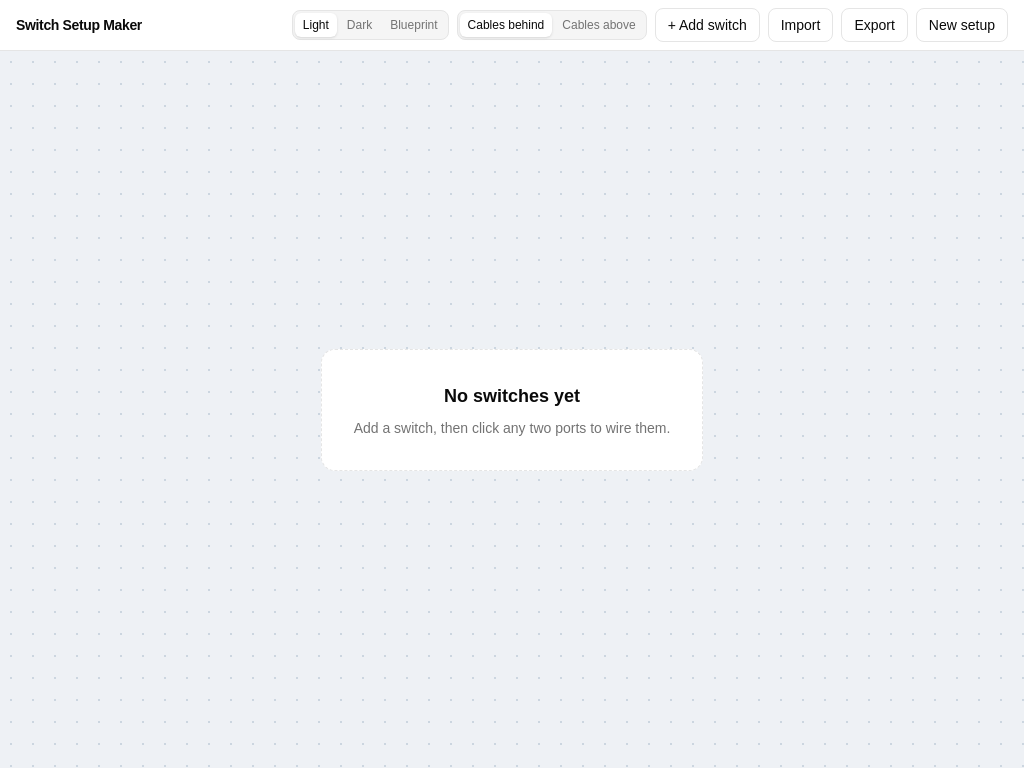
Scenario: add switch › only the Unifi 48 Port entry prefills the model name
The image size is (1024, 768).
Click the button "+ Add switch". click: [707, 25]
box: [655,8,760,42]
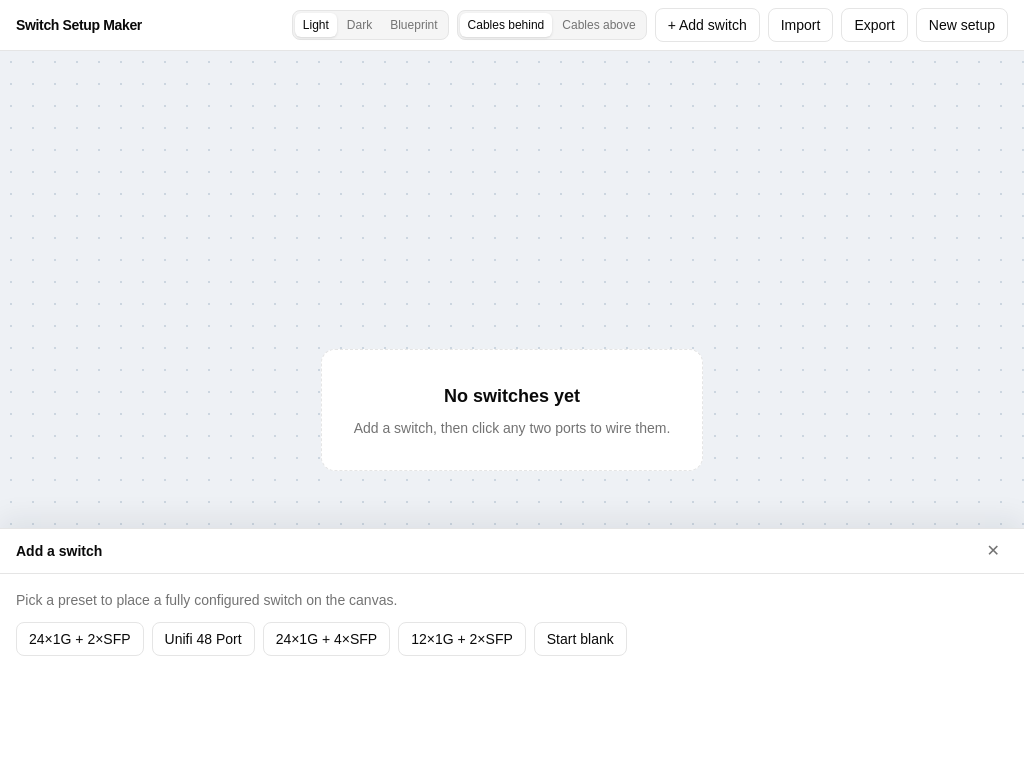
Click the button "24×1G + 2×SFP". click: [80, 639]
box: [16,622,144,656]
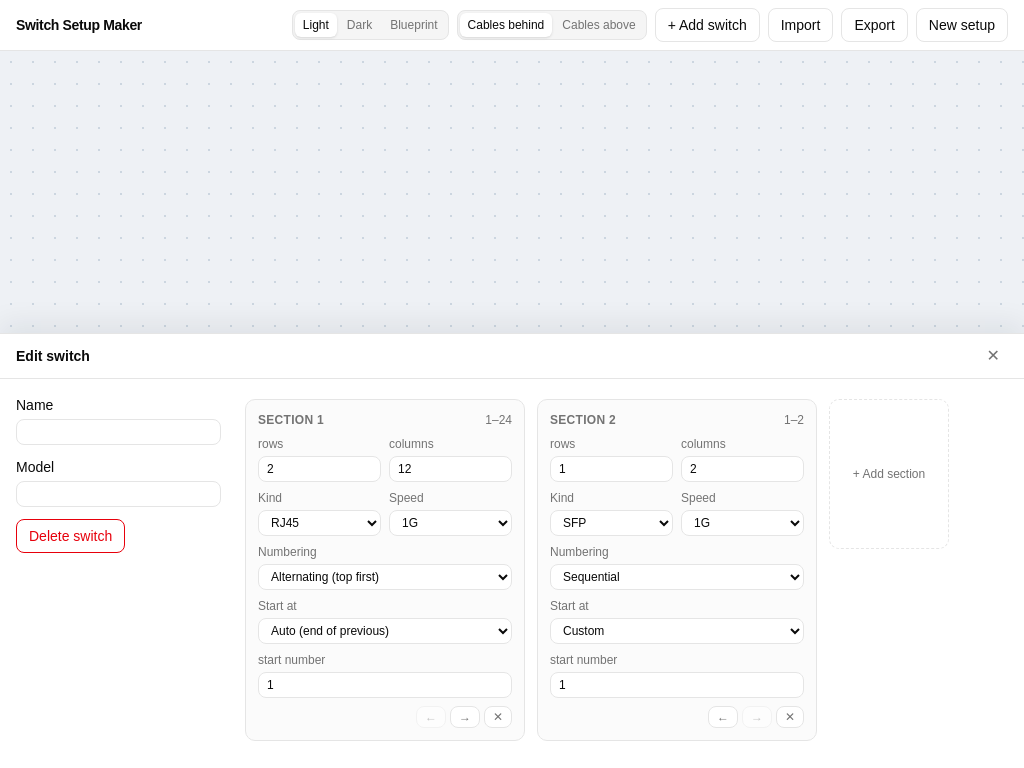
Click the button "+ Add switch". click: [707, 25]
box: [655,8,760,42]
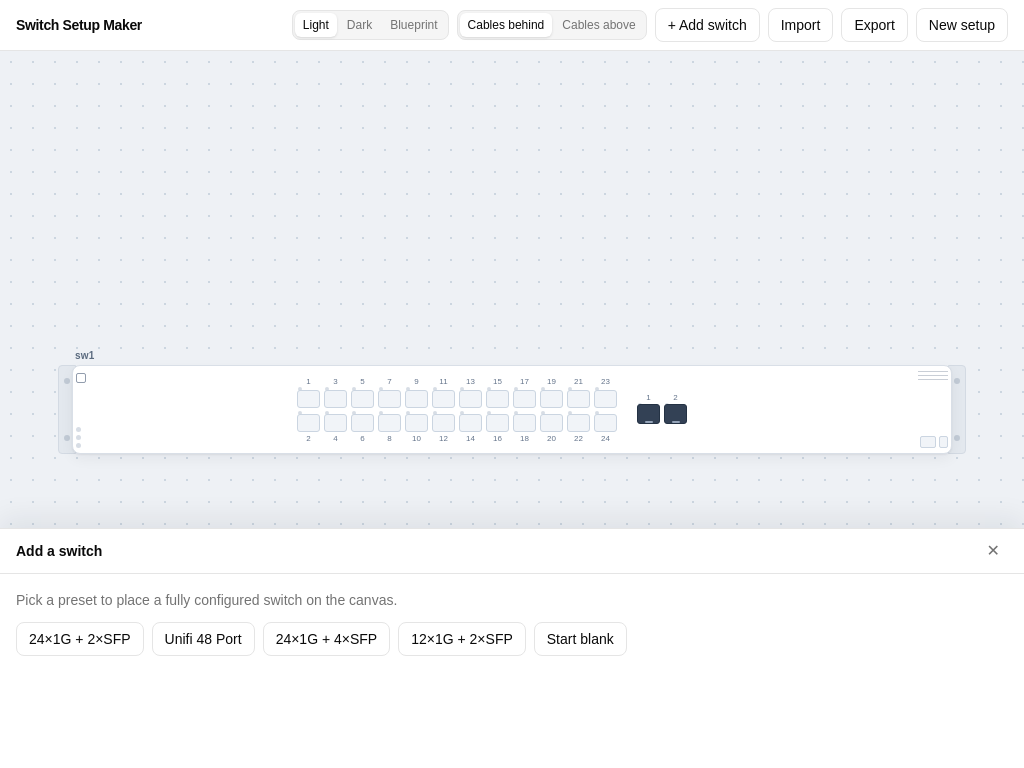
Click the button "Unifi 48 Port". click: [203, 639]
box: [152,622,255,656]
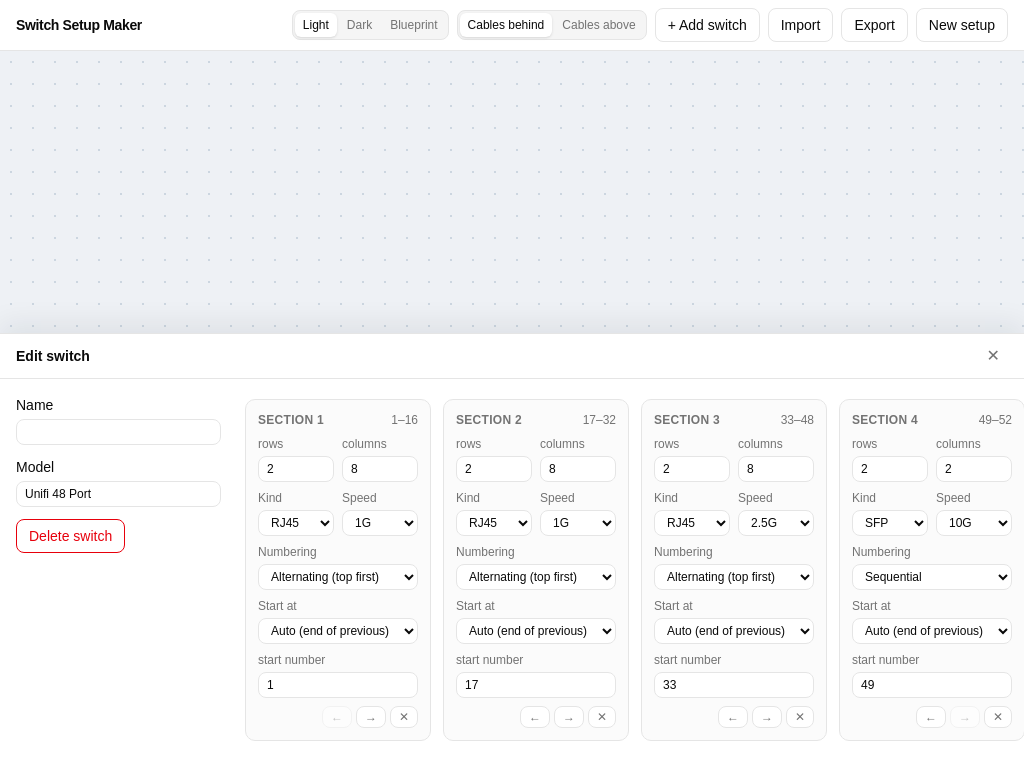
Expected: the element "Unifi 48 Port" is shown, [96,389,976,478]
Expected: the field labelled "Model" holds "Unifi 48 Port", [16,481,221,507]
